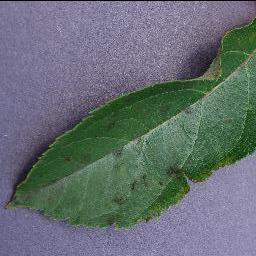apple healthy: (4, 0, 255, 231)
